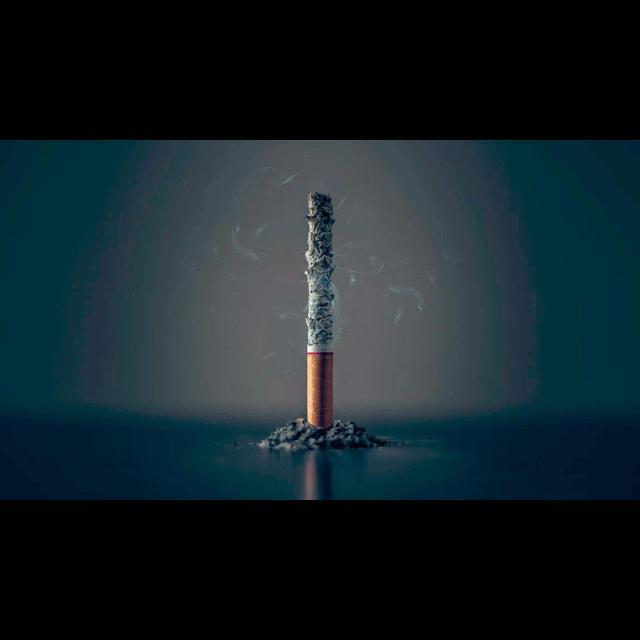rokok: (302, 186, 338, 430)
